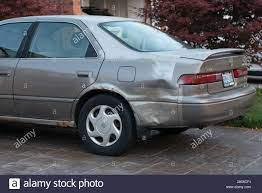RunningBoard-Dent: (29, 117, 77, 131)
quaterpanel-dent: (99, 58, 189, 101)
rear-bumper-dent: (129, 102, 226, 133)
